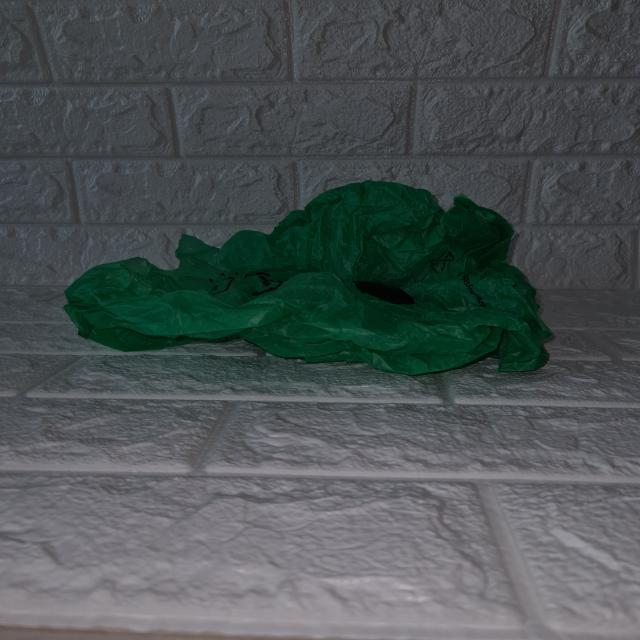Plastic_Bag: (58, 180, 555, 382)
